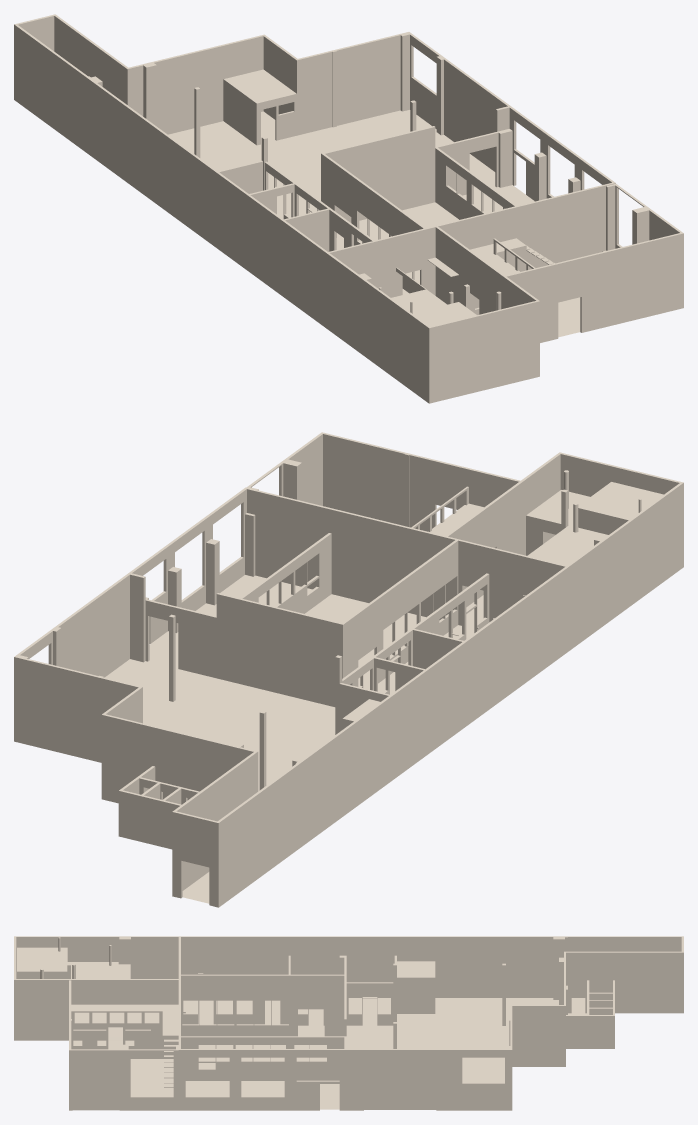
File: RISE_Office.fbx
3 renders of one model, top to bottom at view 1: azimuth 30°, elevation 25°; view 2: azimuth 150°, elevation 25°; view 3: azimuth 270°, elevation 25°, orthographic. The views are drawn at different scales.
Visible parts, largest first — view 1: Body7.002; view 2: Body7.002; view 3: Body7.002.
Boxes of the visible parts, left/top/right/bottom form: Body7.002: left=14, top=14, right=683, bottom=403; Body7.002: left=14, top=432, right=683, bottom=907; Body7.002: left=14, top=936, right=683, bottom=1110.
Bounding box in the file's own units: 1839 × 480 × 4577.
